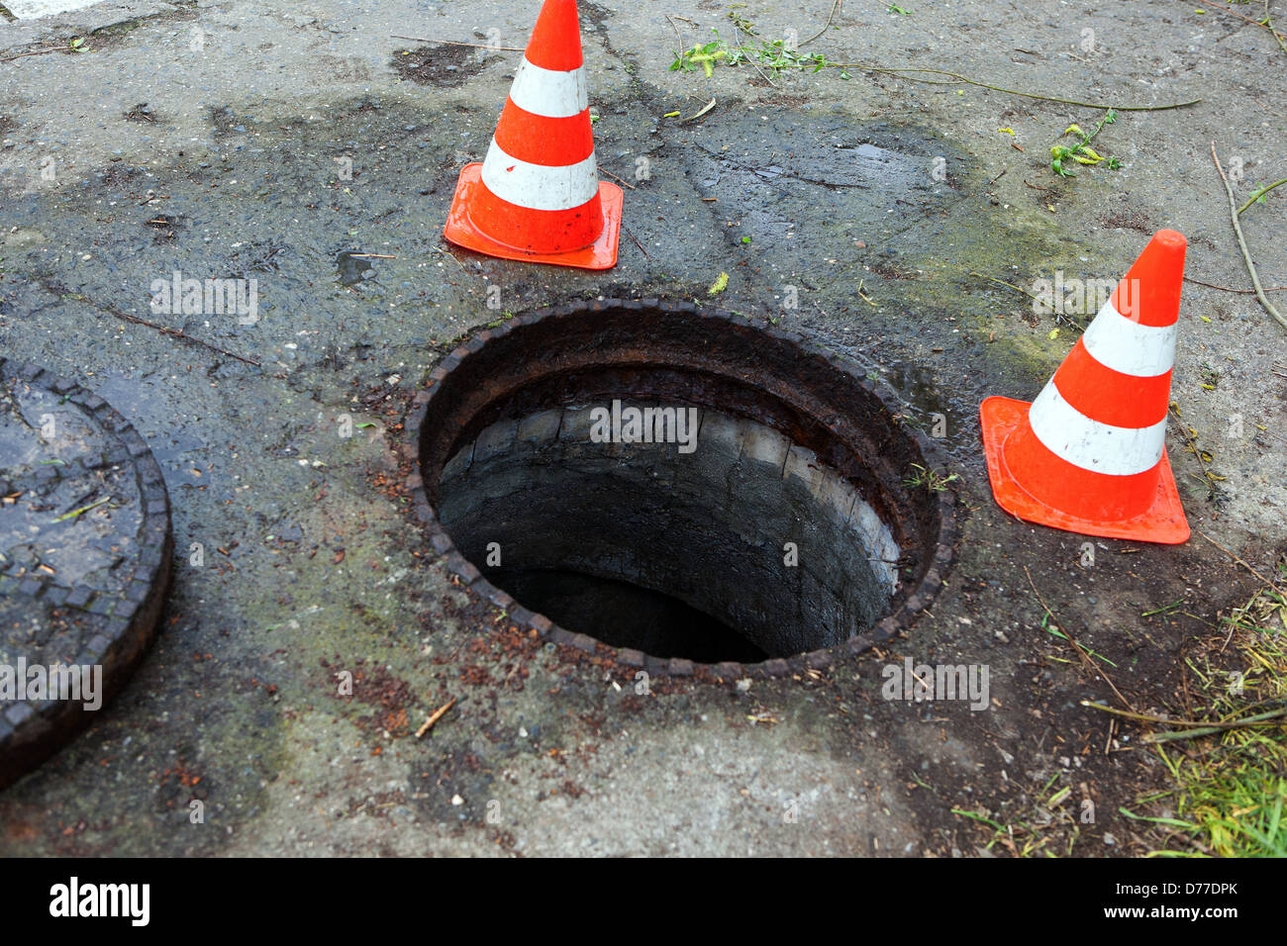Open_manhole: (375, 284, 976, 697)
Road_cone: (967, 225, 1210, 546), (451, 15, 631, 278)
